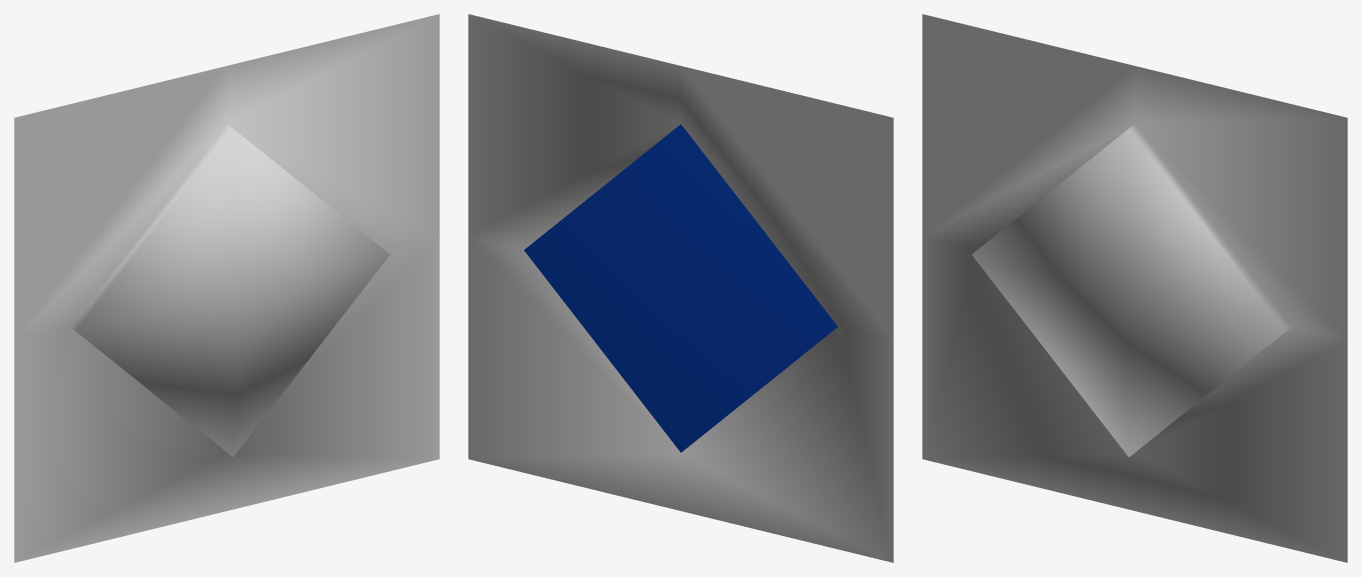
Rendered from LargeTile.fbx.
3 renders of one model, left to right at view 1: azimuth 30°, elevation 25°; view 2: azimuth 150°, elevation 25°; view 3: azimuth 330°, elevation 25°, orthographic.
Parts seen in each view (by area): view 1: DiamondShape; view 2: DiamondShape; view 3: DiamondShape.
Part boxes in pixels (bbox=[...]): DiamondShape: bbox=[14, 14, 439, 562]; DiamondShape: bbox=[468, 14, 893, 562]; DiamondShape: bbox=[922, 14, 1347, 562].
Size of the model in its own units: 2 by 2 by 0.15.
